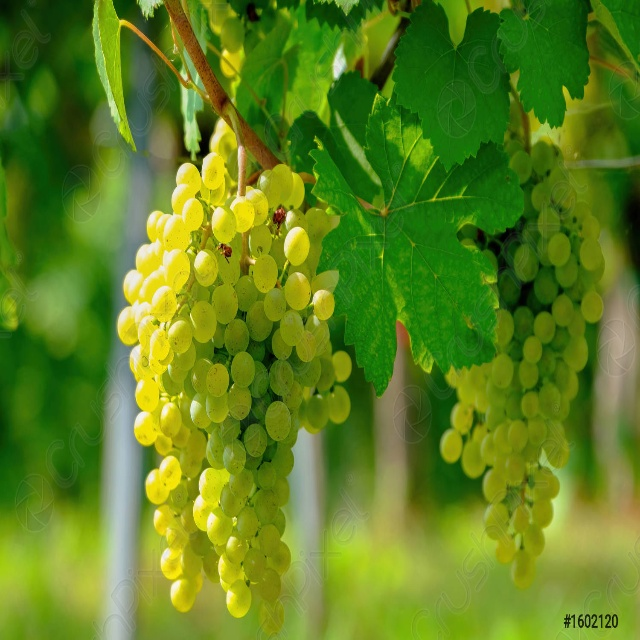grape: (114, 151, 356, 640)
